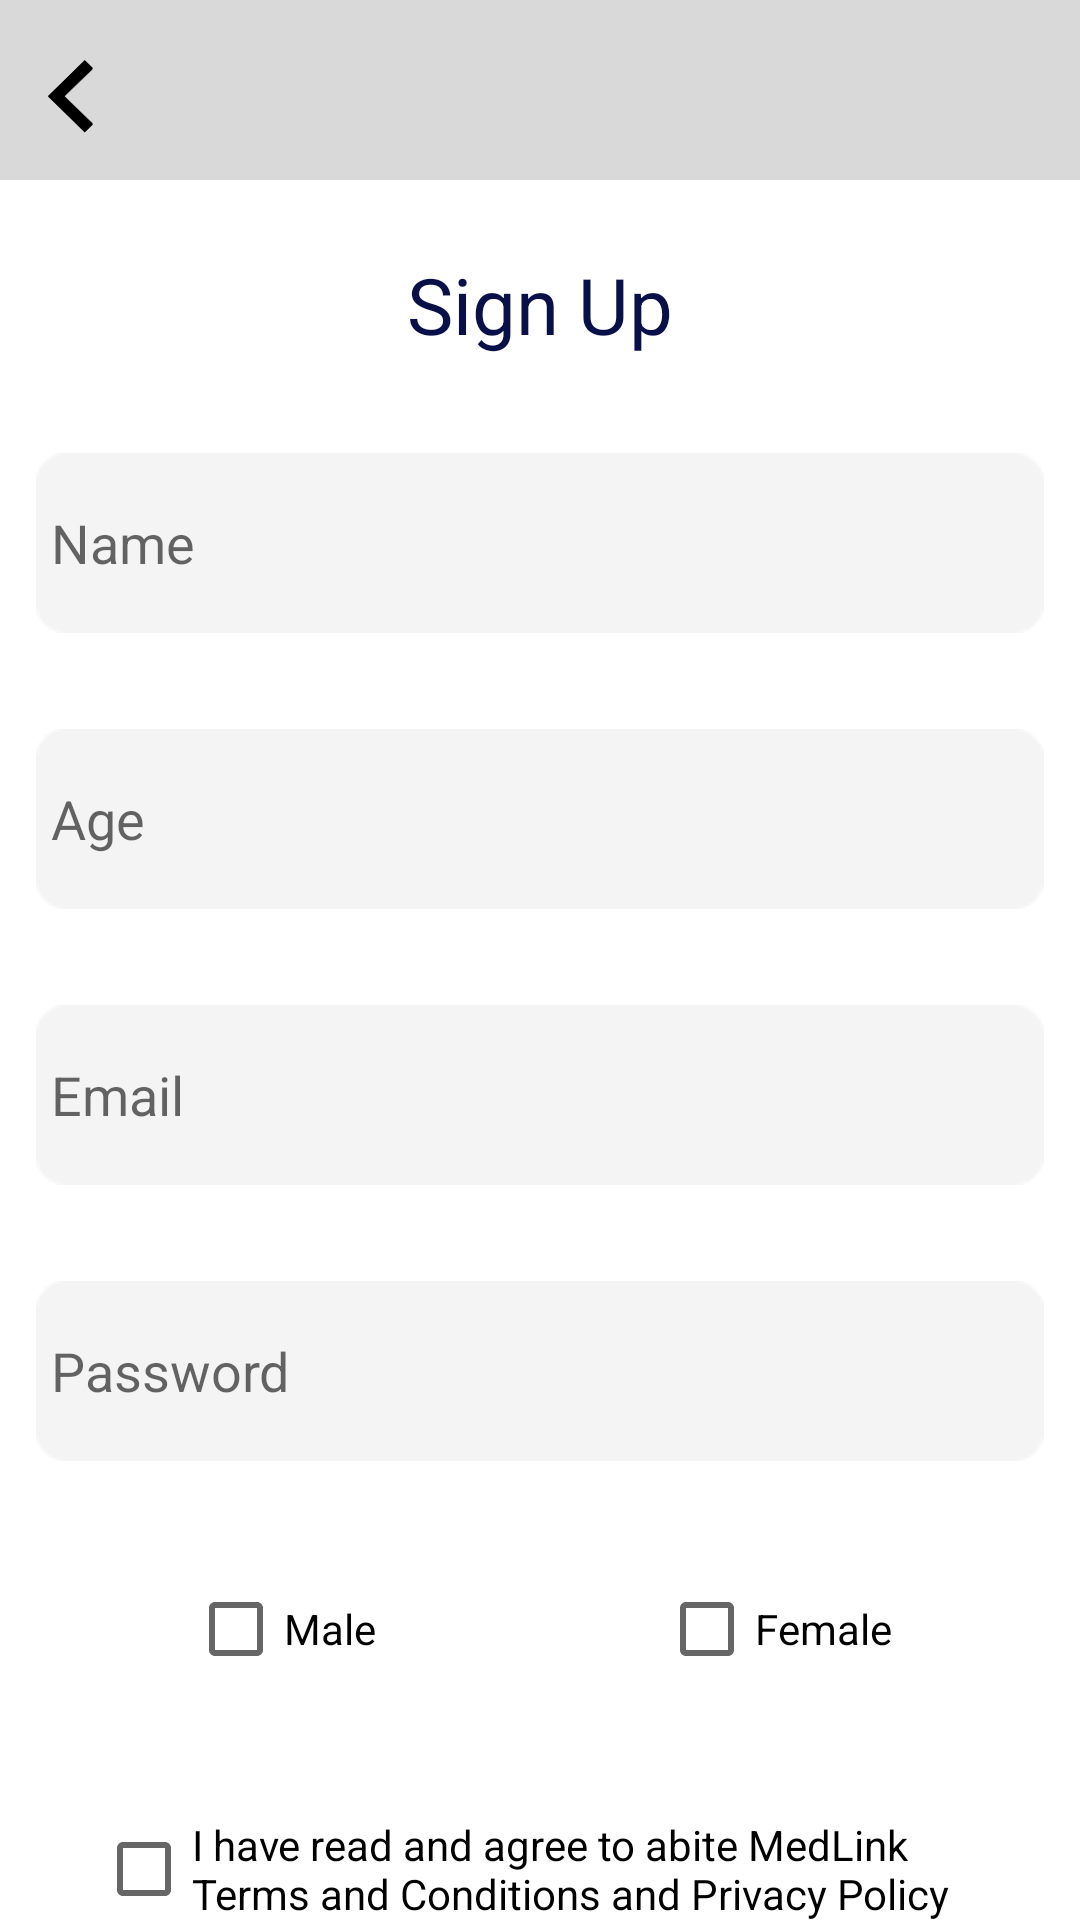

Named icons in this screenshot (1080*1920) and their bounding boxes, (x1, y1, x2, y2):
back: (48, 60, 93, 133)
